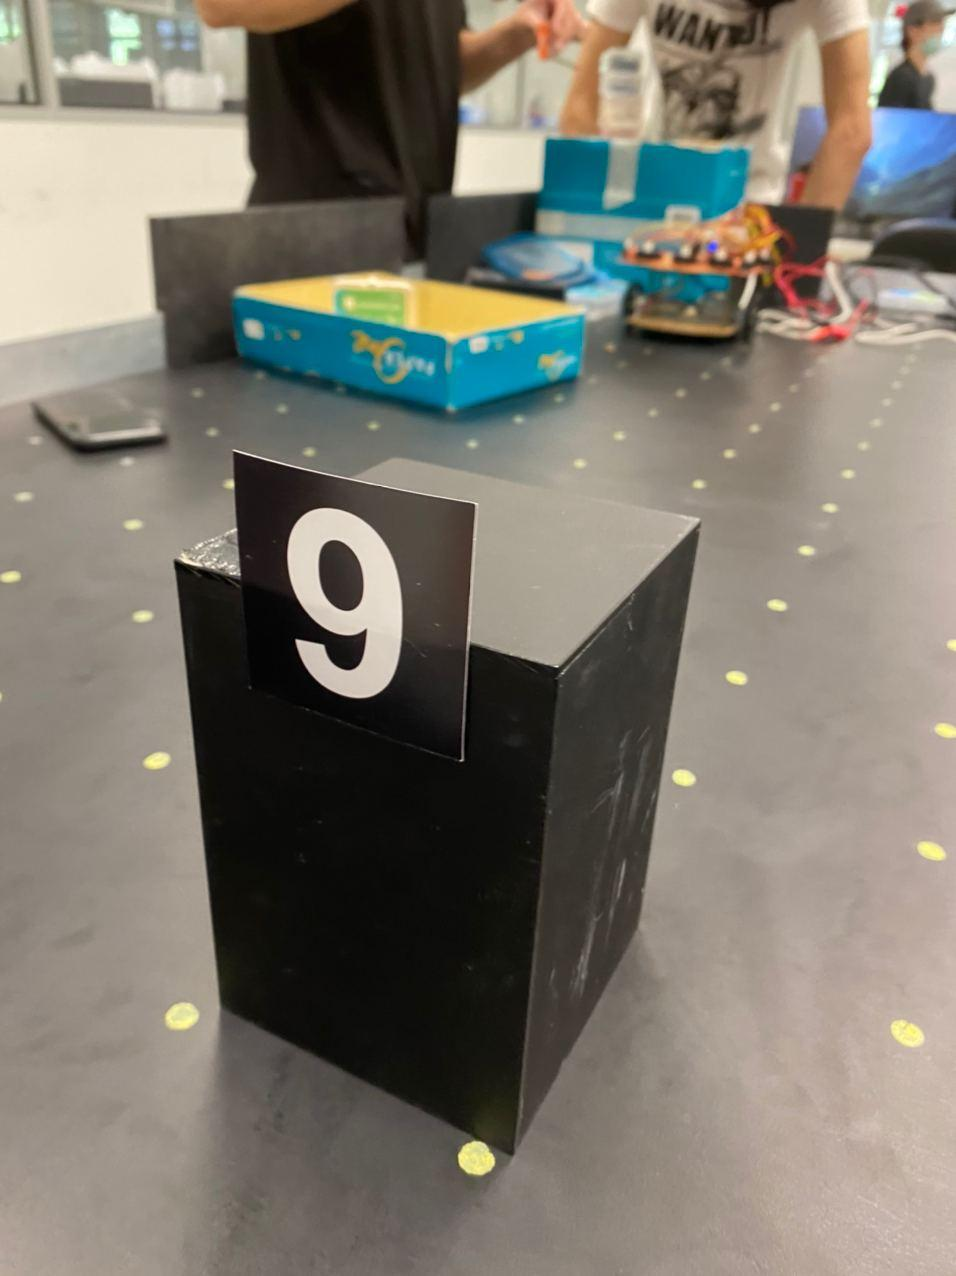9dd: (280, 496, 416, 719)
